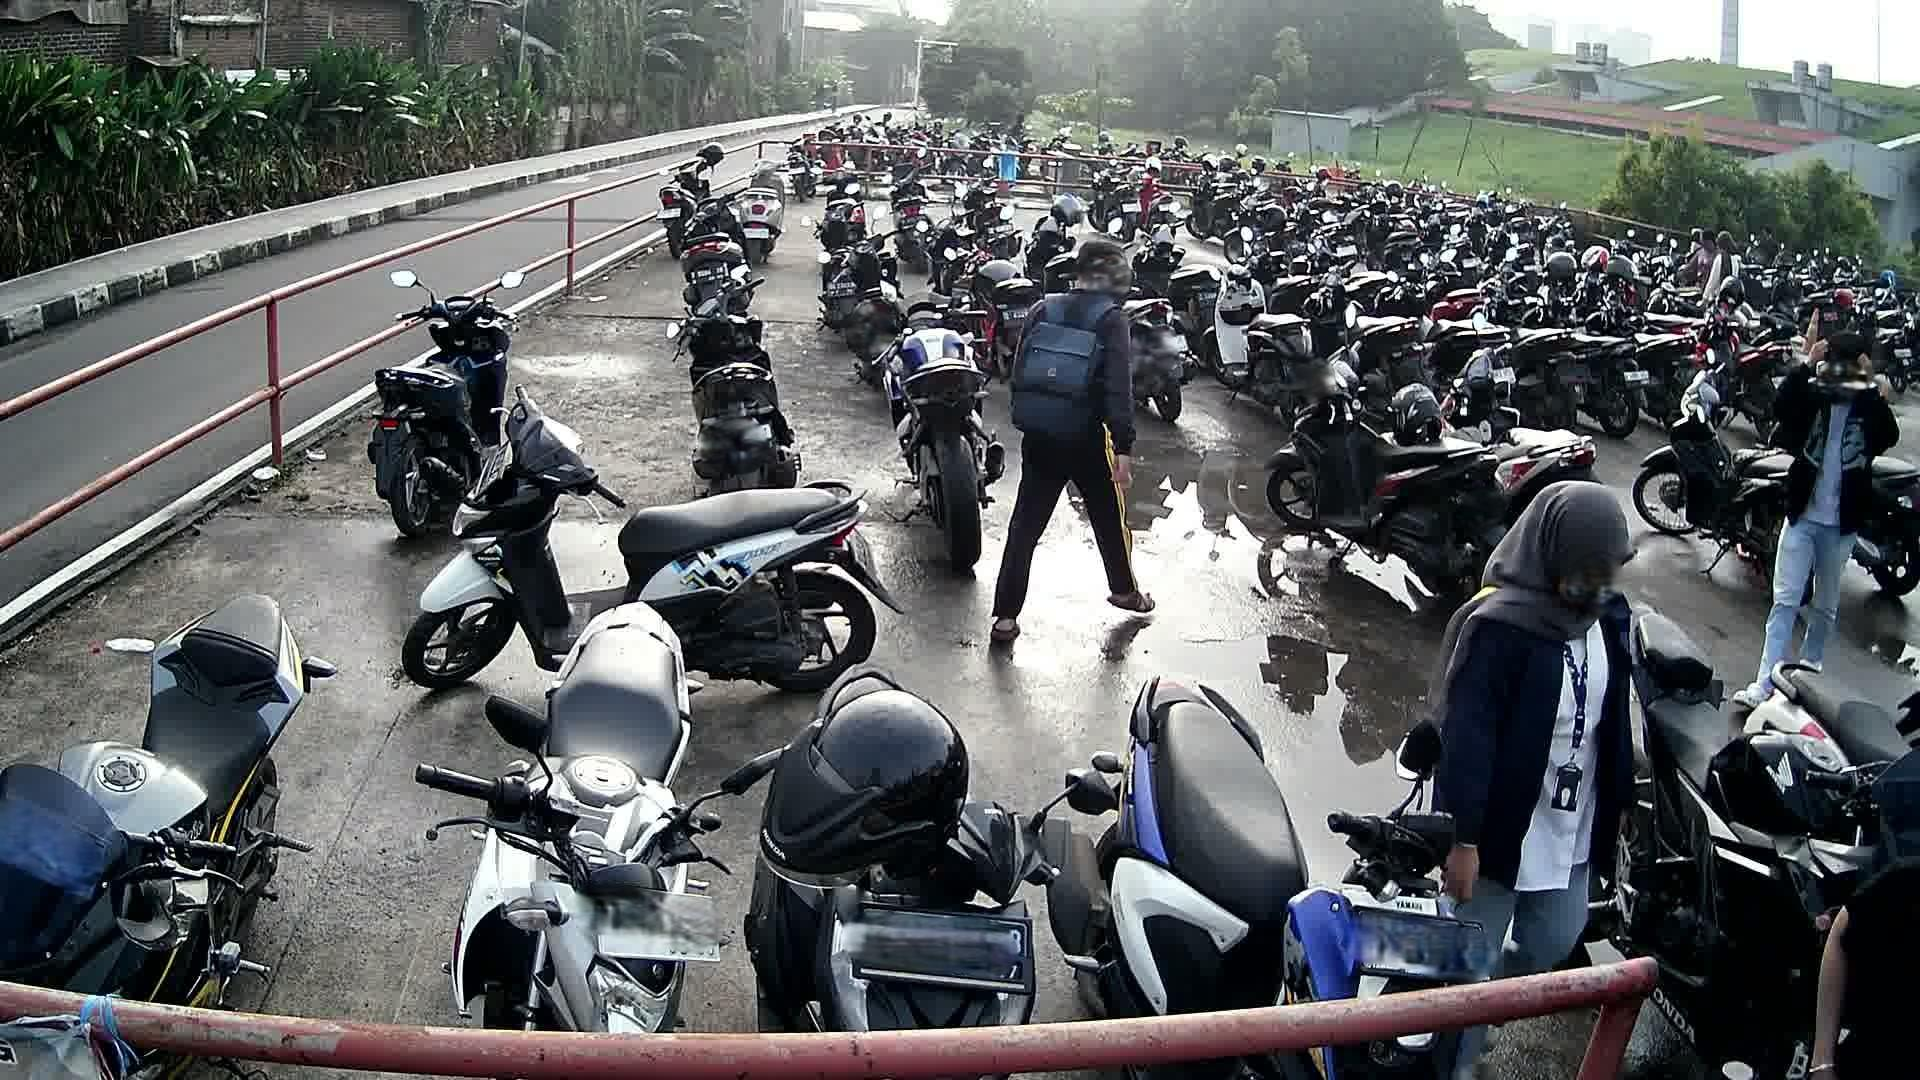motorcycle: (405, 389, 909, 707), (1036, 670, 1487, 996), (0, 585, 343, 1011), (1627, 597, 1920, 1080), (417, 601, 731, 1034), (745, 662, 1071, 1026), (1265, 339, 1484, 591), (369, 268, 529, 541), (872, 277, 1014, 572), (1633, 360, 1795, 578), (665, 266, 815, 492), (1444, 336, 1610, 483), (1745, 658, 1920, 764)
